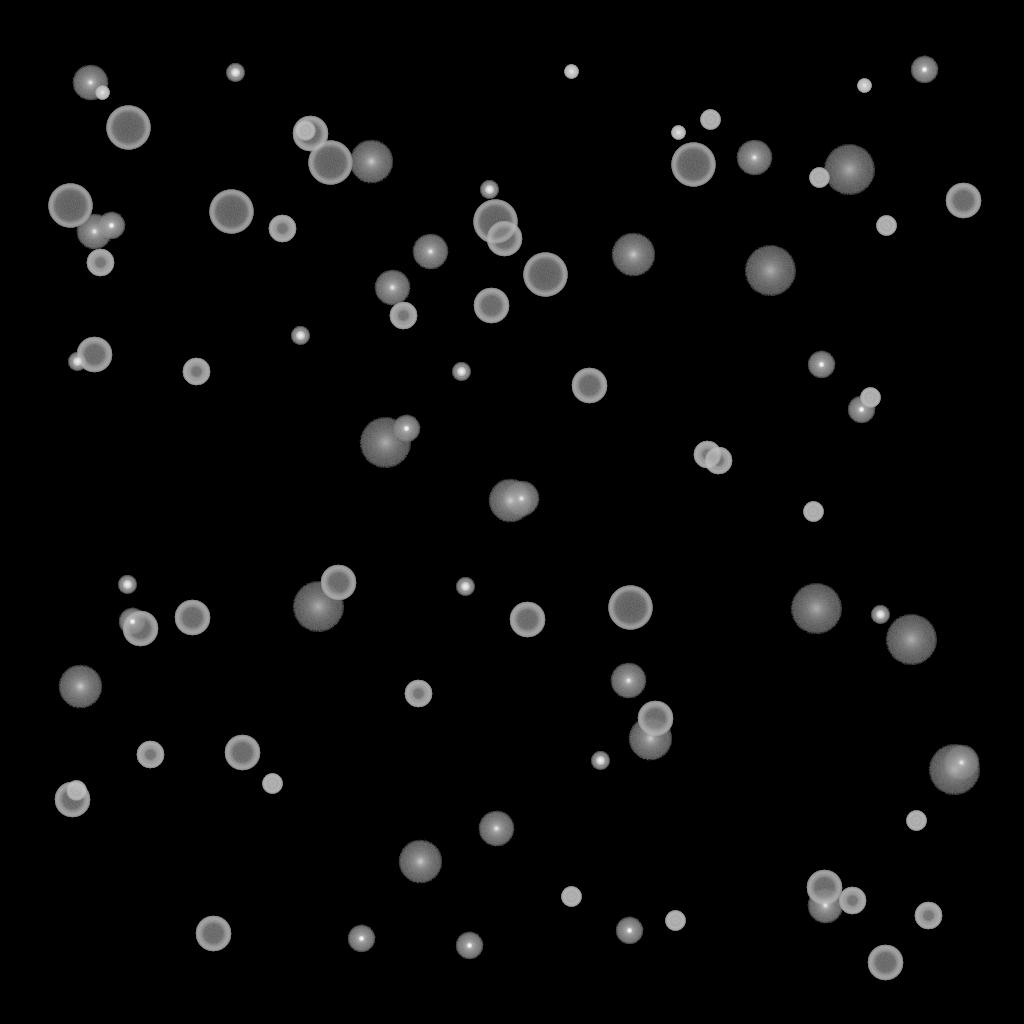depth:-10: (392, 415, 420, 443), (455, 932, 483, 960), (97, 212, 125, 240), (118, 608, 146, 636), (807, 351, 835, 379), (910, 56, 938, 84), (847, 396, 875, 424), (615, 917, 643, 945), (347, 925, 375, 953)
depth:-20: (871, 606, 889, 624), (291, 327, 309, 345), (226, 64, 244, 82), (452, 363, 470, 381), (456, 578, 474, 596), (480, 181, 498, 199), (591, 752, 609, 770), (118, 576, 136, 594), (68, 353, 86, 371)
depth:-30: (95, 86, 109, 100), (857, 79, 871, 93), (564, 65, 578, 79), (671, 126, 685, 140)
depth:-40: (295, 121, 315, 141), (66, 781, 86, 801), (700, 110, 720, 130), (803, 502, 823, 522), (876, 216, 896, 236), (665, 911, 685, 931), (809, 168, 829, 188), (262, 774, 282, 794), (860, 388, 880, 408), (906, 811, 926, 831), (561, 887, 581, 907)
depth:-50: (404, 680, 432, 708), (838, 887, 866, 915), (914, 902, 942, 930), (86, 249, 114, 277), (182, 358, 210, 386), (389, 302, 417, 330), (693, 441, 721, 469), (268, 215, 296, 243), (136, 741, 164, 769), (704, 447, 732, 475)
depth:-60: (473, 288, 509, 324), (76, 337, 112, 373), (571, 368, 607, 404), (224, 735, 260, 771), (637, 701, 673, 737), (867, 945, 903, 981), (195, 916, 231, 952), (292, 116, 328, 152), (122, 611, 158, 647), (54, 782, 90, 818), (509, 602, 545, 638), (174, 600, 210, 636), (945, 183, 981, 219), (806, 870, 842, 906), (486, 221, 522, 257), (320, 565, 356, 601)
depth:-70: (308, 141, 352, 185), (608, 586, 652, 630), (106, 106, 150, 150), (209, 190, 253, 234), (473, 200, 517, 244), (671, 143, 715, 187), (48, 184, 92, 228), (523, 253, 567, 297)
depth:0: (736, 140, 772, 176), (478, 811, 514, 847), (72, 65, 108, 101), (374, 270, 410, 306), (76, 214, 112, 250), (503, 481, 539, 517), (807, 888, 843, 924), (943, 745, 979, 781), (610, 663, 646, 699), (412, 234, 448, 270)
depth:10: (628, 717, 672, 761), (58, 665, 102, 709), (398, 840, 442, 884), (611, 233, 655, 277), (488, 479, 532, 523), (349, 140, 393, 184)
depth:20: (292, 582, 344, 632), (823, 145, 875, 195), (359, 418, 411, 468), (928, 745, 980, 795), (790, 584, 842, 634), (744, 246, 796, 296), (885, 615, 937, 665)
